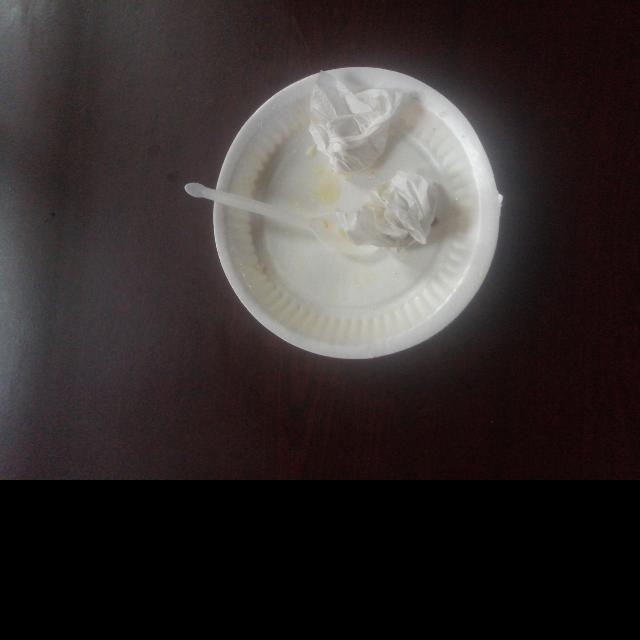kitchen paper: (310, 74, 414, 166), (357, 173, 460, 249)
